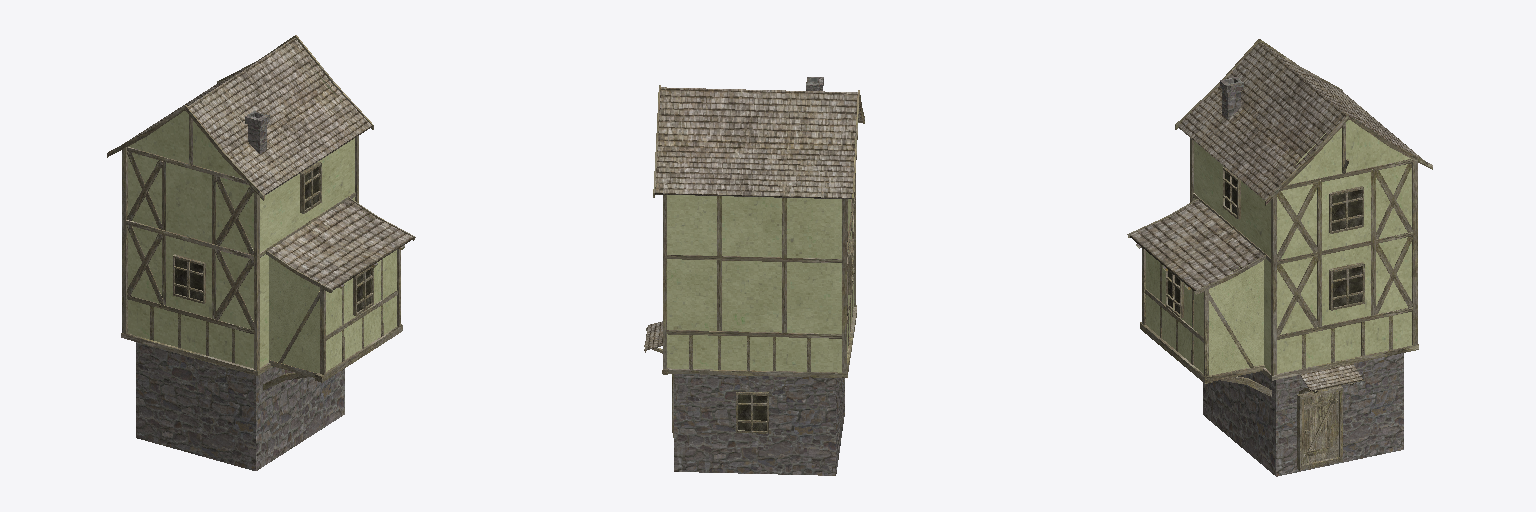
3 views of the same model, side by side, from view 1: azimuth 30°, elevation 25°; view 2: azimuth 150°, elevation 25°; view 3: azimuth 270°, elevation 25° (orthographic).
Parts seen in each view (by area): view 1: Cube.005_Cube.006; view 2: Cube.005_Cube.006; view 3: Cube.005_Cube.006.
Part boxes in pixels (x1,y1,x2,y2): Cube.005_Cube.006: (107, 35, 415, 470); Cube.005_Cube.006: (644, 77, 864, 475); Cube.005_Cube.006: (1127, 39, 1432, 476).
Bounding box in the file's own units: 15.84 × 22.97 × 17.87.
Materials: 1 (1 with a texture image).